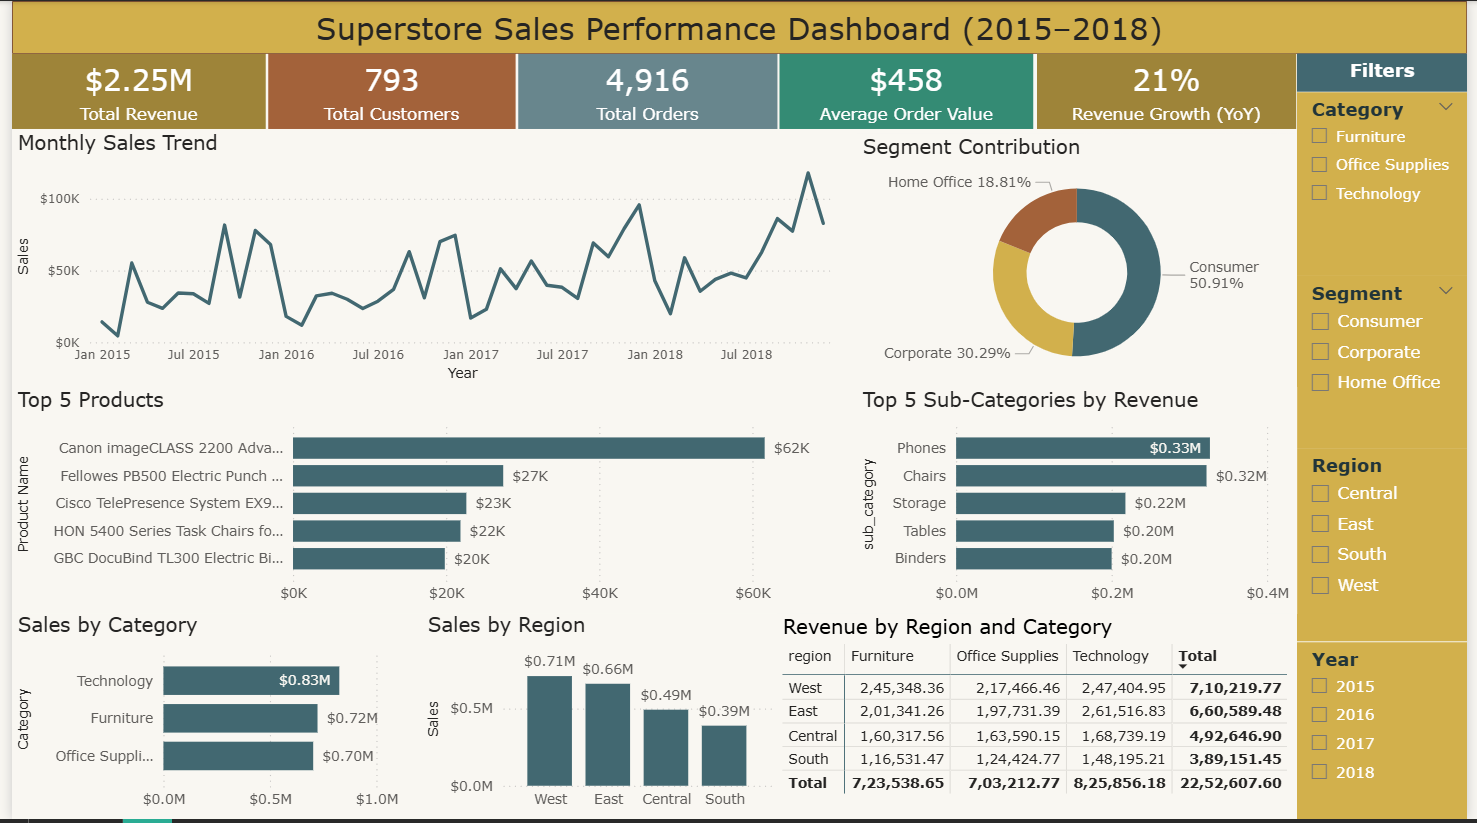

This screenshot's page, from the dashboard's own definition file:
{"tool":"powerbi","page":{"name":"Page 1","canvas":[1280,720],"ordinal":0},"visuals":[{"type":"lineChart","title":"Monthly Sales Trend ","fields":{"Y":["superstore.Total Revenue"],"Category":["superstore.order_date.Variation.Date Hierarchy.Year","superstore.order_date.Variation.Date Hierarchy.Month"]},"box":[0,112.8,741.9,225.6],"z":0},{"type":"clusteredColumnChart","title":"Sales by Region","fields":{"Category":["superstore.region"],"Y":["superstore.Total Revenue"]},"box":[360.9,538.2,312.7,181.8],"z":1000},{"type":"clusteredBarChart","title":"Sales by Category","fields":{"Category":["superstore.category"],"Y":["superstore.Revenue"]},"box":[0,538.2,360.9,181.8],"z":2000},{"type":"donutChart","title":"Segment Contribution","fields":{"Category":["superstore.segment"],"Y":["superstore.Total Revenue"]},"box":[743,116.3,387.2,223.3],"z":3000},{"type":"card","fields":{"Values":["superstore.Total Revenue"]},"box":[0,46.5,223.3,66.3],"z":4000},{"type":"card","fields":{"Values":["superstore.Total Customers"]},"box":[225.6,46.5,217.4,66.3],"z":5000},{"type":"card","fields":{"Values":["superstore.Total Orders"]},"box":[445.4,46.5,227.9,66.3],"z":6000},{"type":"card","fields":{"Values":["superstore.Average Orders"]},"box":[675.6,46.5,223.3,66.3],"z":7000},{"type":"slicer","fields":{"Values":["superstore.order_year"]},"box":[1130.2,564,150,155.8],"z":9000},{"type":"slicer","fields":{"Values":["superstore.region"]},"box":[1130.2,394.2,150,169.8],"z":10000},{"type":"textbox","box":[0,0,1280,46.5],"z":11000},{"type":"barChart","title":"Top 5 Products","fields":{"Category":["superstore.product_name"],"Y":["superstore.Total Revenue"]},"box":[0,339.5,741.9,198.8],"z":12000},{"type":"slicer","fields":{"Values":["superstore.segment"]},"box":[1130.2,241.9,150,152.3],"z":13000},{"type":"slicer","fields":{"Values":["superstore.category"]},"box":[1130.2,80.2,150,161.6],"z":14000},{"type":"barChart","title":"Top 5 Sub-Categories by Revenue","fields":{"Category":["superstore.sub_category"],"Y":["superstore.Revenue"]},"box":[743,339.5,387.2,198.8],"z":15000},{"type":"pivotTable","title":"Revenue by Region and Category","fields":{"Values":["Sum(superstore.sales)"],"Columns":["superstore.category"],"Rows":["superstore.region"]},"box":[673.3,538.4,455.8,181.4],"z":16000},{"type":"textbox","box":[1130.2,46.5,150,33.7],"z":17000},{"type":"card","fields":{"Values":["superstore.Revenue Growth %"]},"box":[901.2,46.5,228,66.3],"z":17001}]}

Visuals, with their boxes in screenshot pixels (x1, y1, x2, y2), scaled from the page's 1280x720 canvas onto the 1477x823 screenshot:
"Monthly Sales Trend " lineChart: [x1=0, y1=129, x2=856, y2=387]
"Sales by Region" clusteredColumnChart: [x1=416, y1=615, x2=777, y2=822]
"Sales by Category" clusteredBarChart: [x1=0, y1=615, x2=416, y2=822]
"Segment Contribution" donutChart: [x1=857, y1=133, x2=1304, y2=388]
card - superstore.Total Revenue: [x1=0, y1=53, x2=258, y2=129]
card - superstore.Total Customers: [x1=260, y1=53, x2=511, y2=129]
card - superstore.Total Orders: [x1=514, y1=53, x2=777, y2=129]
card - superstore.Average Orders: [x1=780, y1=53, x2=1037, y2=129]
slicer - superstore.order_year: [x1=1304, y1=645, x2=1476, y2=822]
slicer - superstore.region: [x1=1304, y1=451, x2=1476, y2=645]
textbox: [x1=0, y1=0, x2=1476, y2=53]
"Top 5 Products" barChart: [x1=0, y1=388, x2=856, y2=615]
slicer - superstore.segment: [x1=1304, y1=277, x2=1476, y2=451]
slicer - superstore.category: [x1=1304, y1=92, x2=1476, y2=276]
"Top 5 Sub-Categories by Revenue" barChart: [x1=857, y1=388, x2=1304, y2=615]
"Revenue by Region and Category" pivotTable: [x1=777, y1=615, x2=1303, y2=822]
textbox: [x1=1304, y1=53, x2=1476, y2=92]
card - superstore.Revenue Growth %: [x1=1040, y1=53, x2=1303, y2=129]
